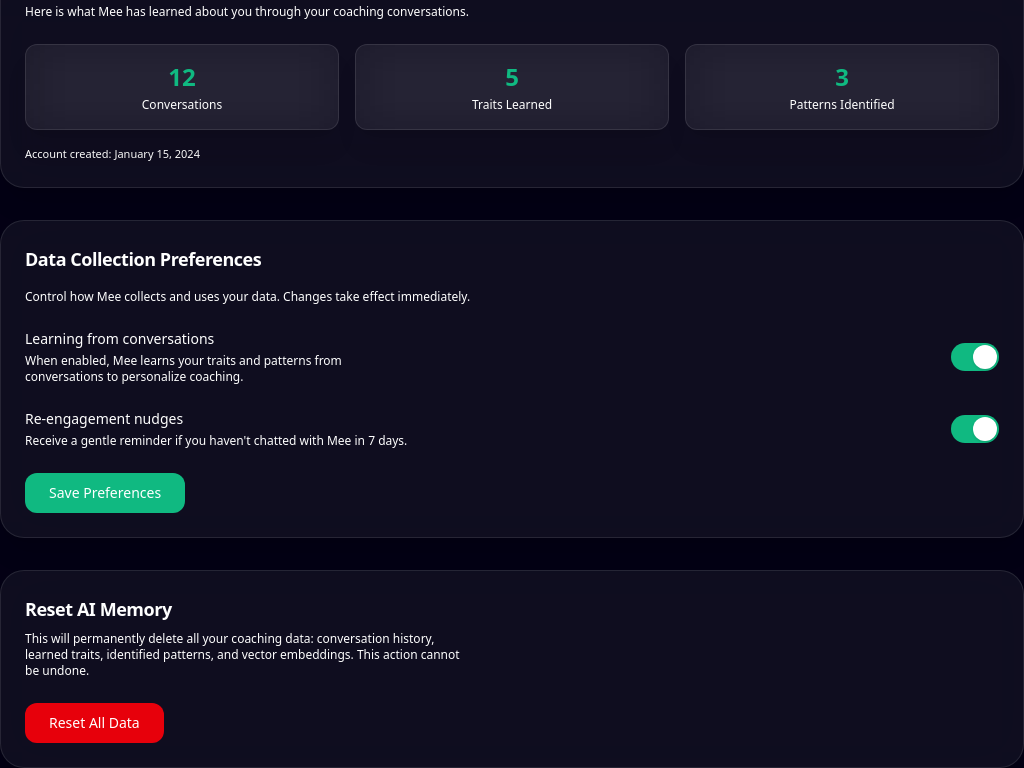
Test: PrivacyControls › cancels reset when Cancel is clicked
The width and height of the screenshot is (1024, 768).
(page scrolled)
Click the button "Reset All Data". click: click(94, 722)
box: [25,702,164,742]
(page scrolled)
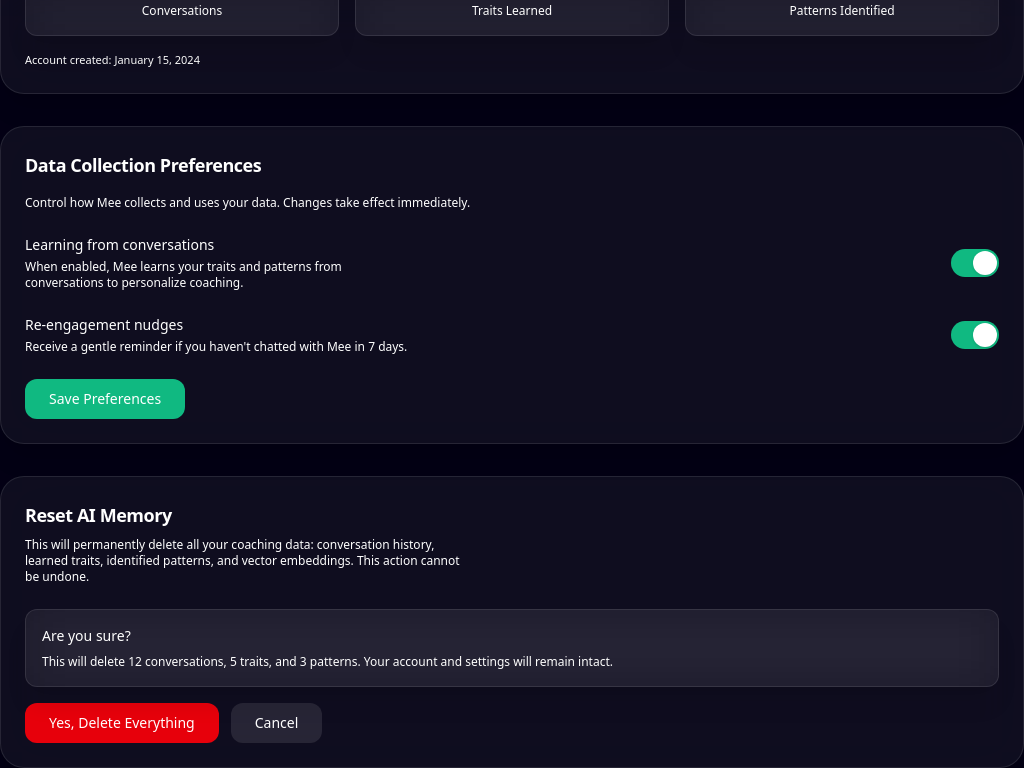
Click the button "Cancel". click: click(276, 722)
box: [231,702,322,742]
(page scrolled)
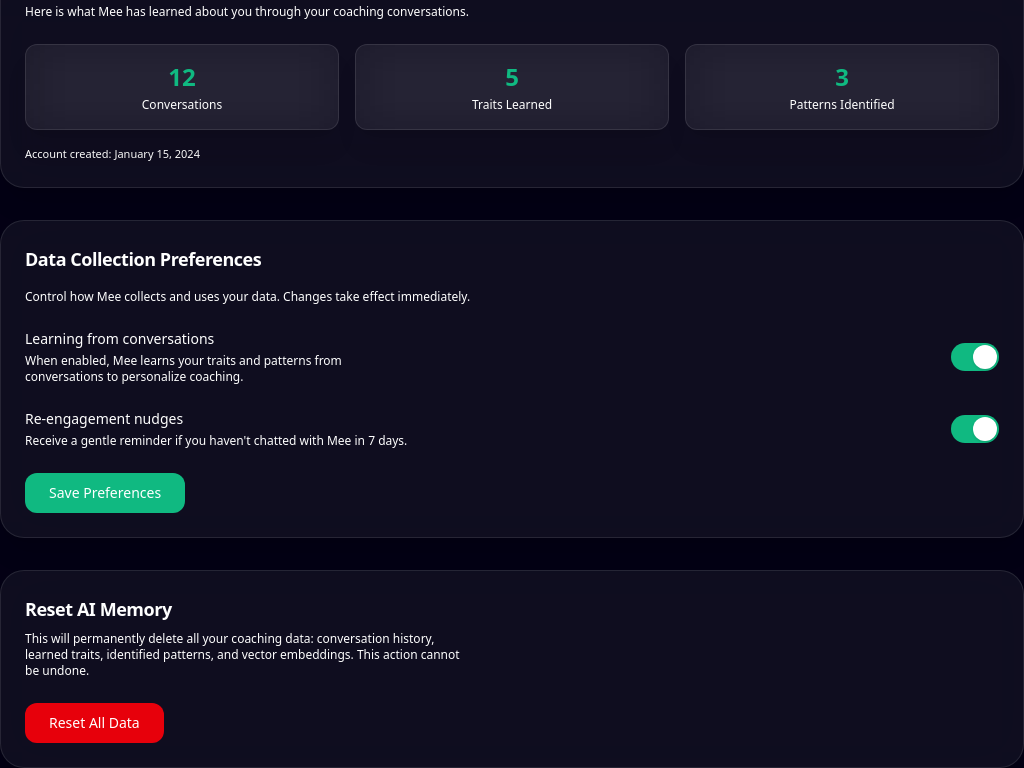
Expected: the button "Reset All Data" is shown, [25,702,164,742]
Expected: the text "Are you sure?" is gone
